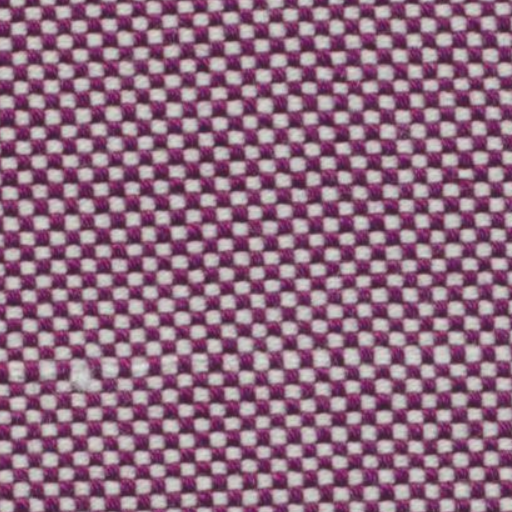DaiSha: (9, 343, 490, 390)
